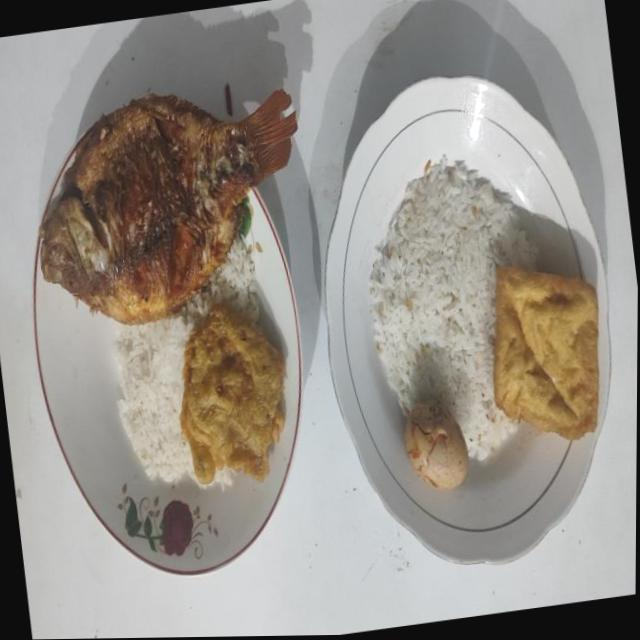ikan_mujair: (39, 89, 297, 324)
nasi_putih: (368, 157, 538, 459), (114, 242, 257, 484)
tahu_goreng: (494, 266, 598, 439)
